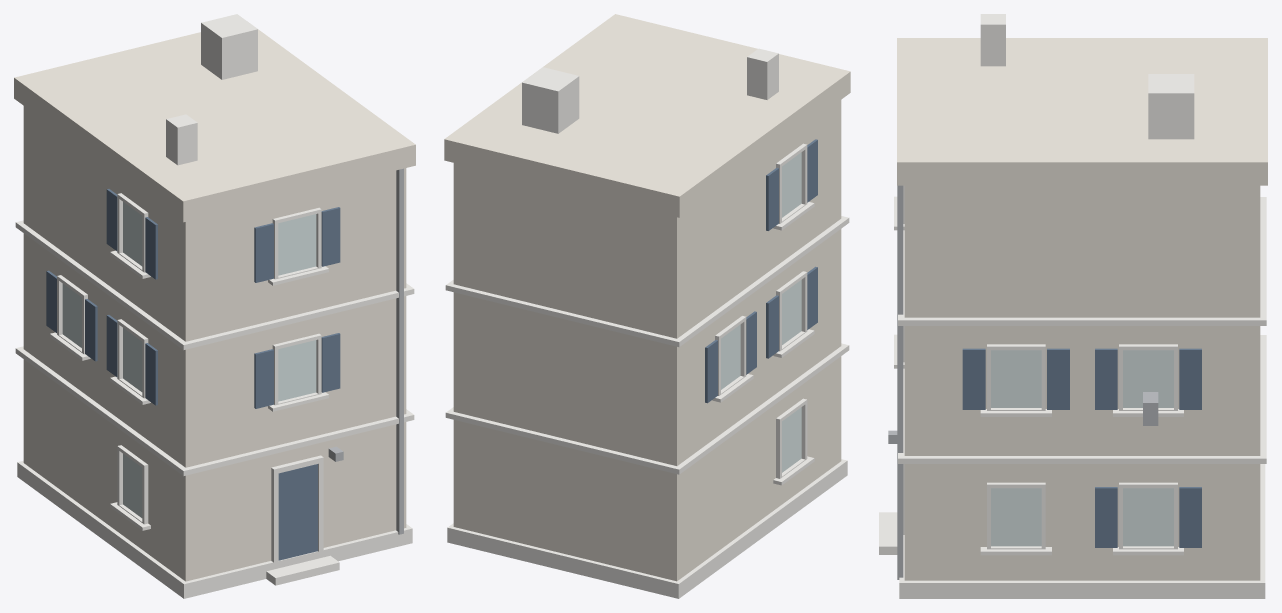
File: harbor_2.glb
3 renders of one model, left to right at view 1: azimuth 30°, elevation 25°; view 2: azimuth 150°, elevation 25°; view 3: azimuth 270°, elevation 25°, orthographic. The views are drawn at different scales.
Parts seen in each view (by area): view 1: Bld_harbor_2; view 2: Bld_harbor_2; view 3: Bld_harbor_2.
Part boxes in pixels (x1,y1,x2,y2): Bld_harbor_2: (14, 14, 415, 598); Bld_harbor_2: (444, 14, 850, 598); Bld_harbor_2: (879, 14, 1267, 598).
Bounding box in the file's own units: 6.23 × 10.5 × 7.65.
